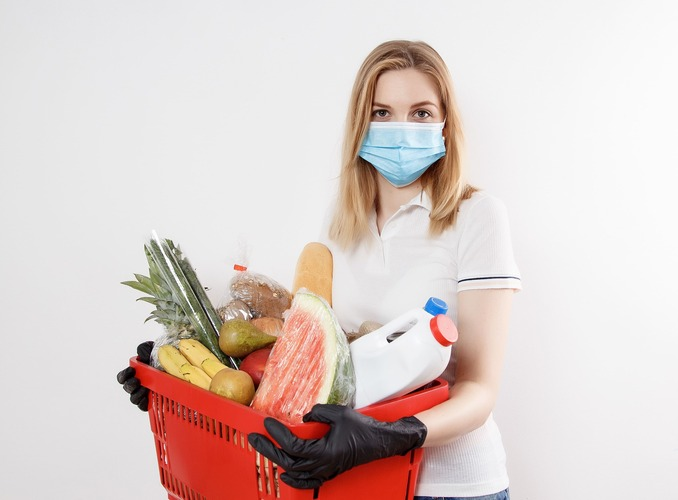with_mask: (369, 79, 439, 171)
